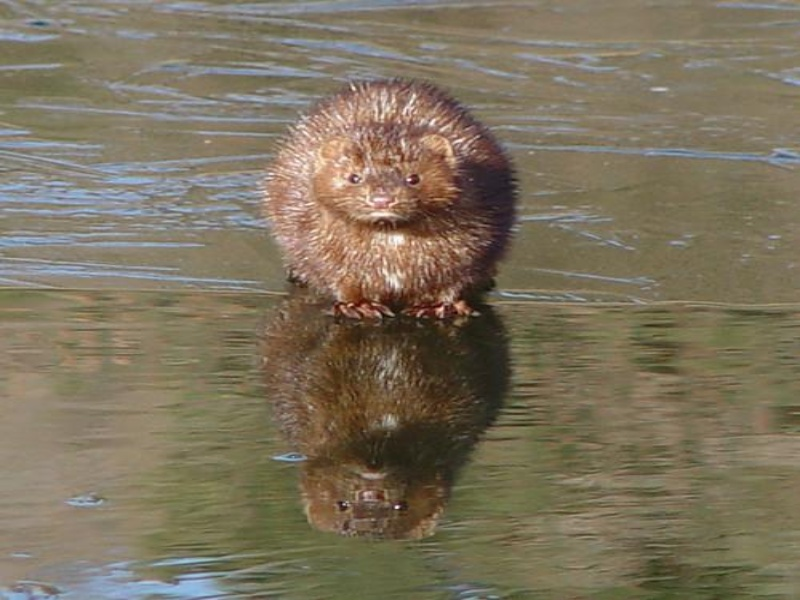minkish: (255, 80, 524, 314)
